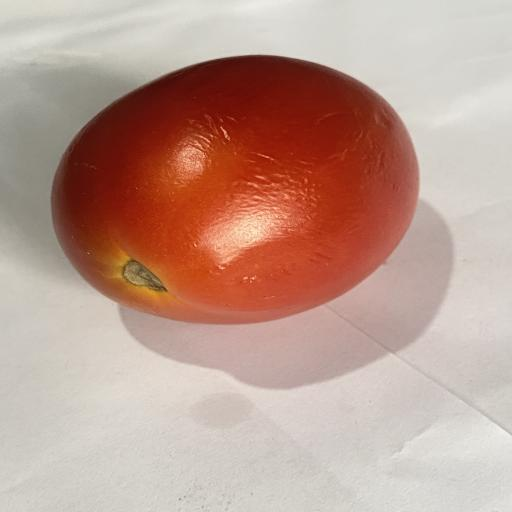spoiled: (51, 55, 419, 324)
